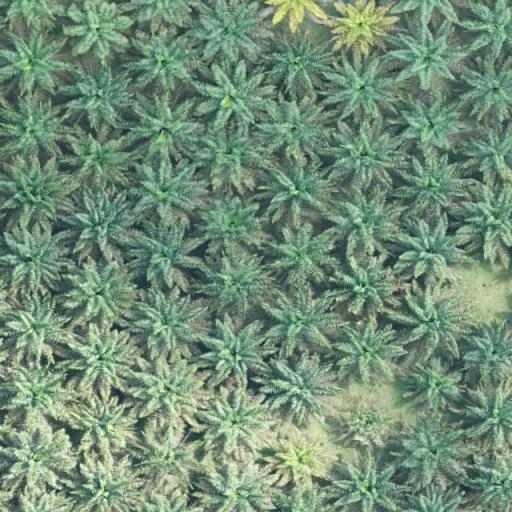Ganoderma: (338, 4, 384, 46), (274, 0, 324, 24), (282, 446, 318, 476)
